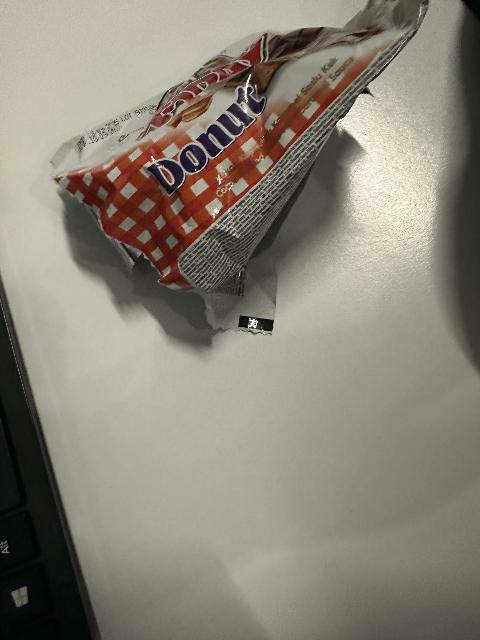Plastik: (51, 0, 441, 338)
